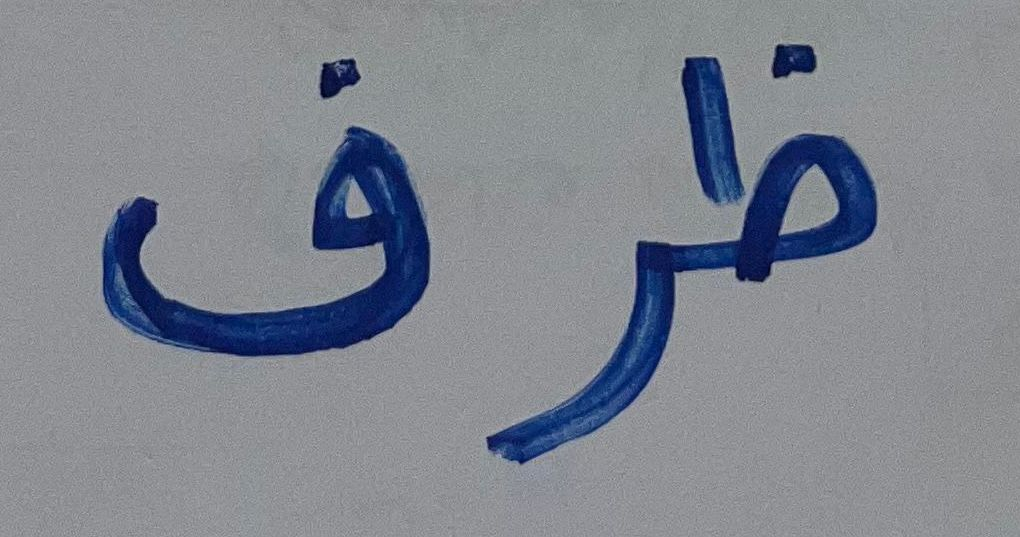alef: (678, 344, 689, 351)
qaf: (84, 25, 454, 371)
reh: (474, 210, 676, 479)
zah: (680, 22, 894, 291)
